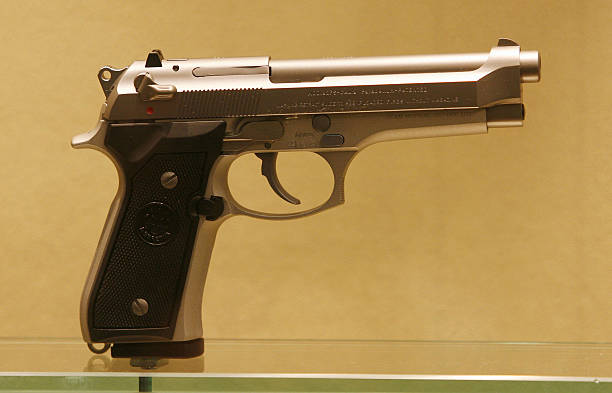pistol: (74, 28, 552, 369)
